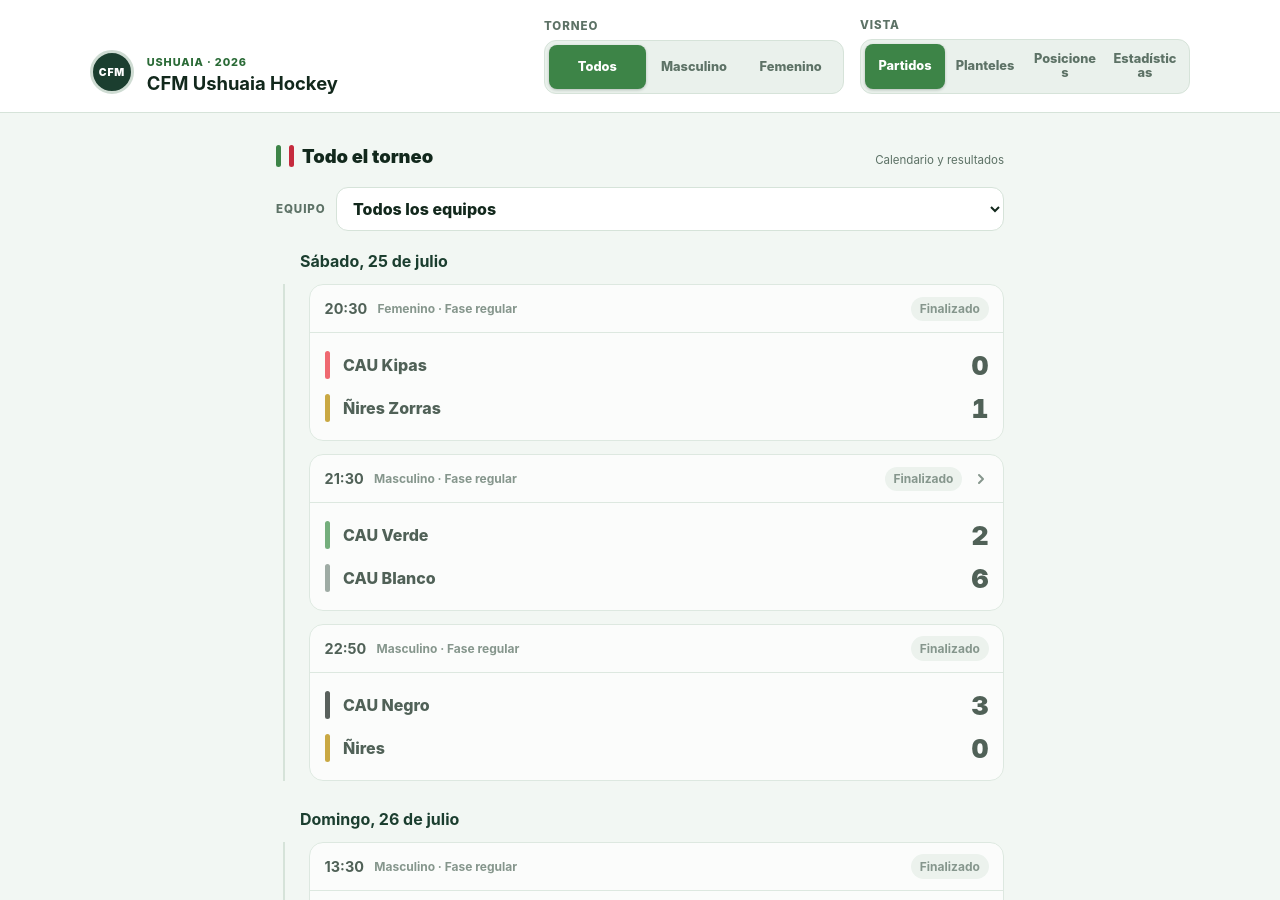
statistics filtered by team › when a team is chosen › should keep only that team
Click the button "Estadísticas" at [1145, 66], box [1105,44,1185,89]
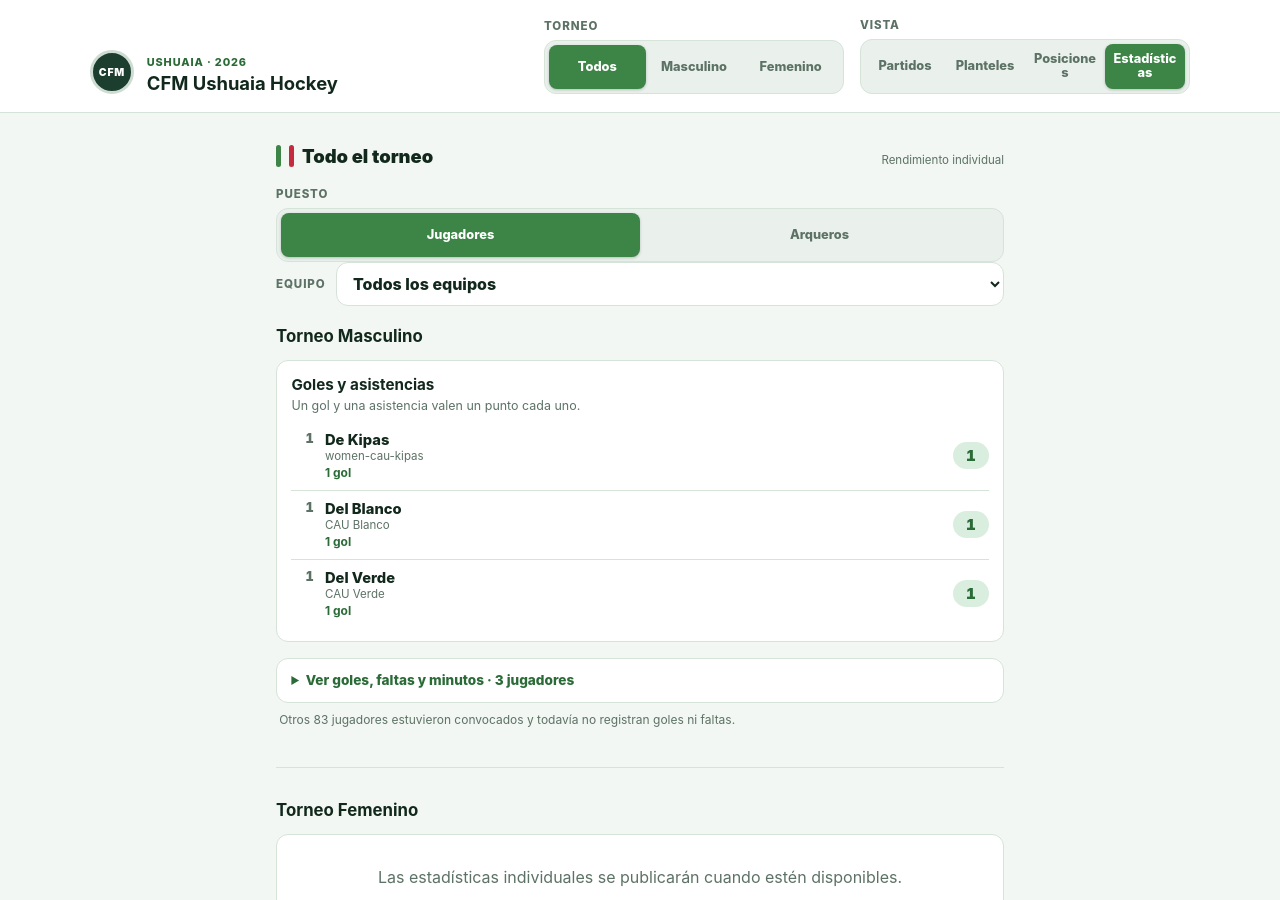
Select "CAU Verde" in the dropdown labelled "Equipo" at [670, 284], box [336,262,1004,306]
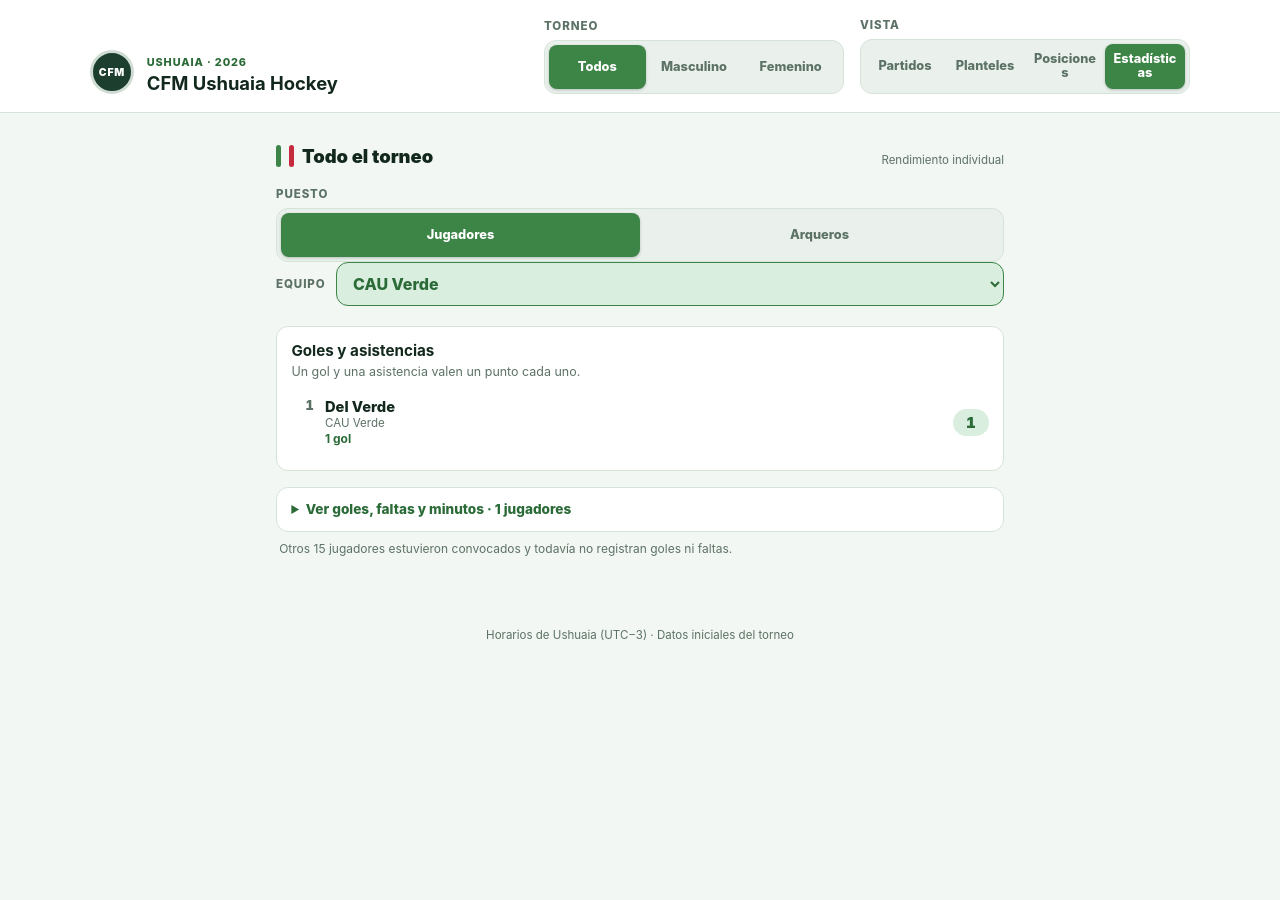
Check: the text "Del Verde" is shown 2 times
Check: the text "Del Blanco" is not shown
